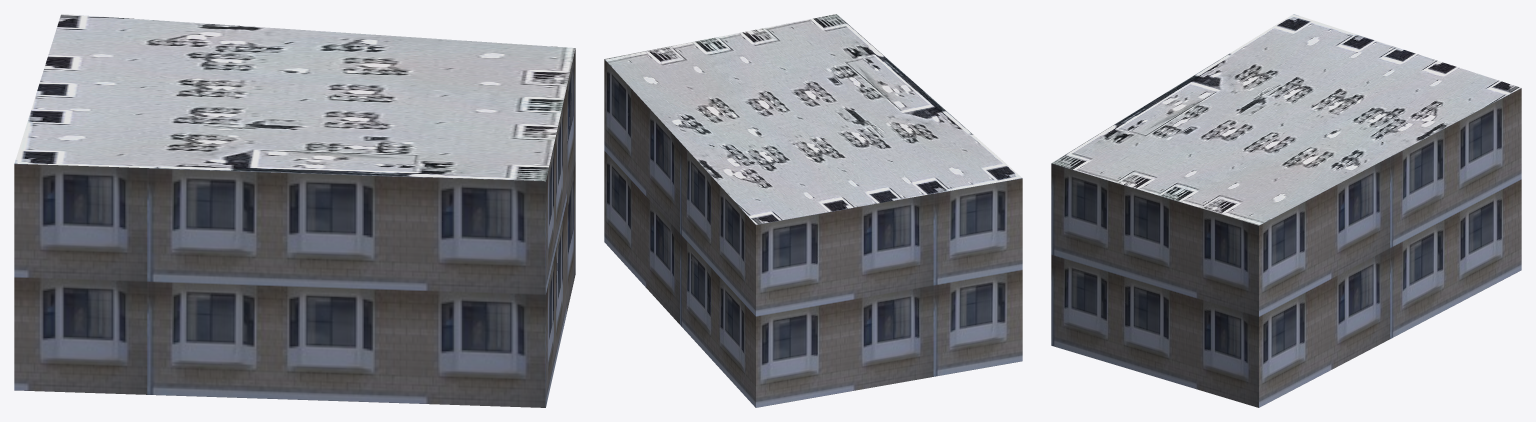
The model's file is ResTex__876.fbx.
The picture shows the model from 3 angles, left to right: view 1: azimuth 30°, elevation 25°; view 2: azimuth 150°, elevation 25°; view 3: azimuth 270°, elevation 25°; orthographic projection. The views are drawn at different scales.
Visible parts, largest first — view 1: CityEngineMaterial_3_m, CityEngineMaterial_2_m; view 2: CityEngineMaterial_3_m, CityEngineMaterial_2_m; view 3: CityEngineMaterial_3_m, CityEngineMaterial_2_m.
Boxes of the visible parts, bbox=[...] form: CityEngineMaterial_3_m: bbox=[14, 48, 575, 407]; CityEngineMaterial_2_m: bbox=[14, 14, 575, 181]; CityEngineMaterial_3_m: bbox=[604, 59, 1022, 407]; CityEngineMaterial_2_m: bbox=[605, 14, 1022, 224]; CityEngineMaterial_3_m: bbox=[1051, 88, 1521, 407]; CityEngineMaterial_2_m: bbox=[1051, 14, 1520, 225].
Bounding box in the file's own units: 14.93 × 6 × 14.03.
2 materials, 2 textured.
